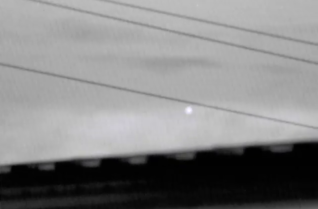Target: (186, 107, 192, 113)
